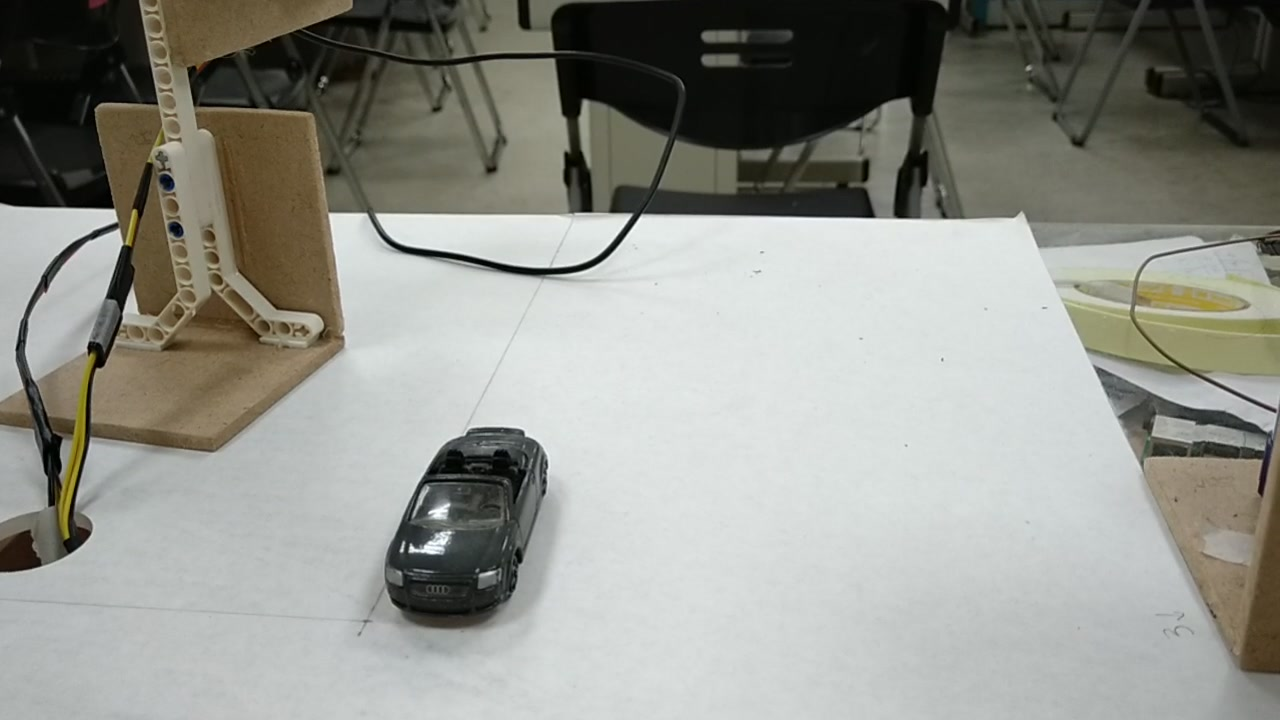car: (379, 442, 556, 617)
